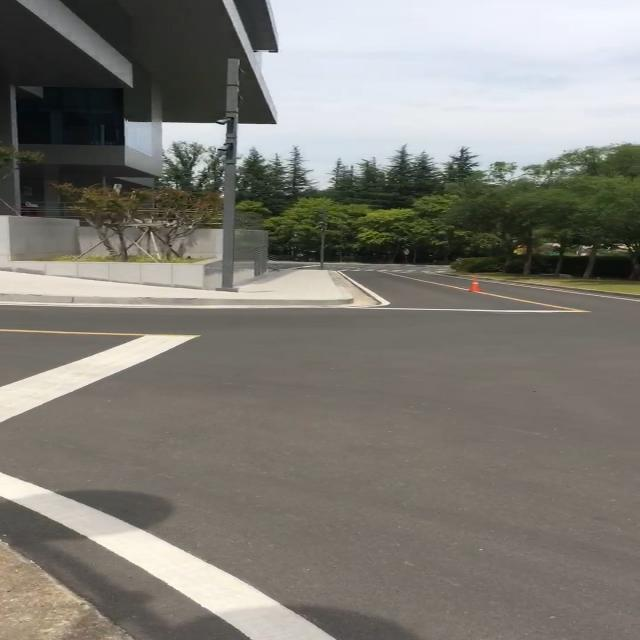obstacle: (216, 62, 241, 292), (465, 278, 484, 298)
road: (0, 262, 640, 640)
sidewalk: (0, 268, 348, 302)
